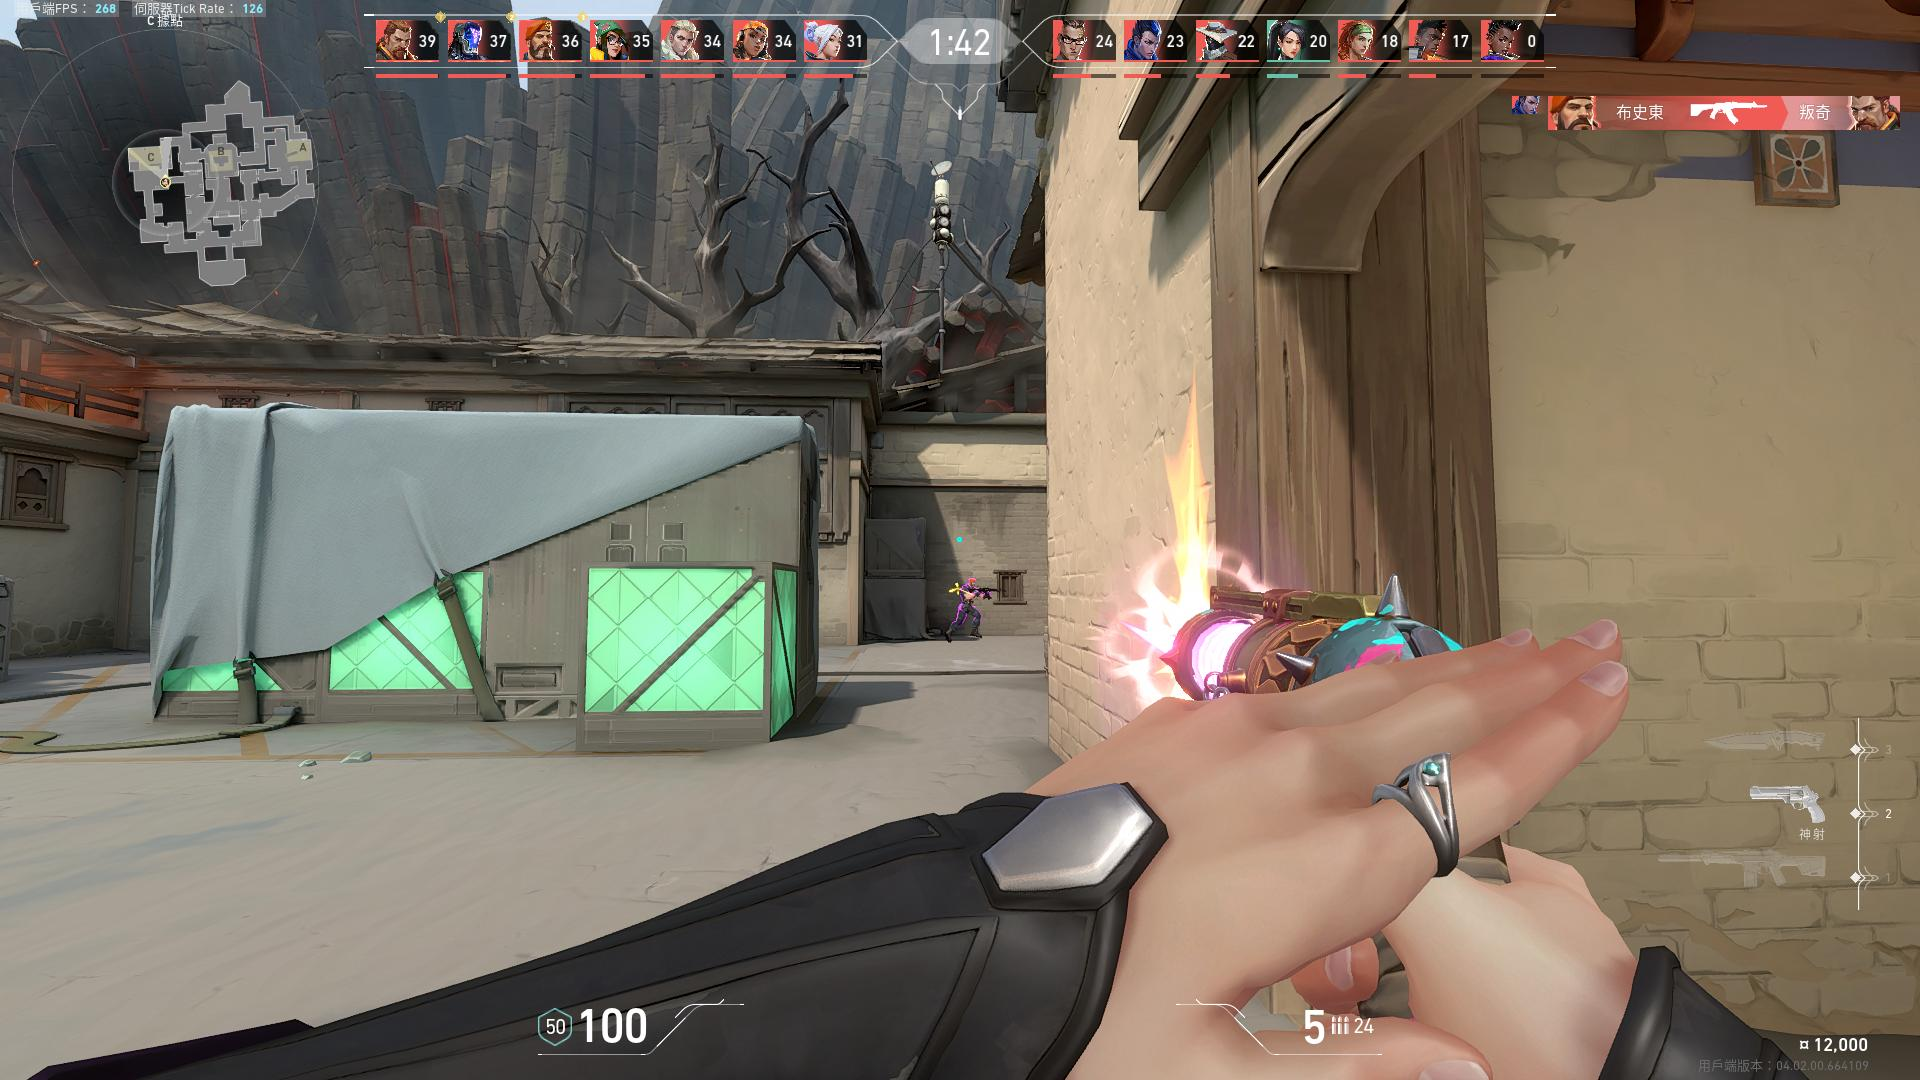enemyBody: (964, 587, 971, 607)
enemyHead: (969, 579, 975, 585)
